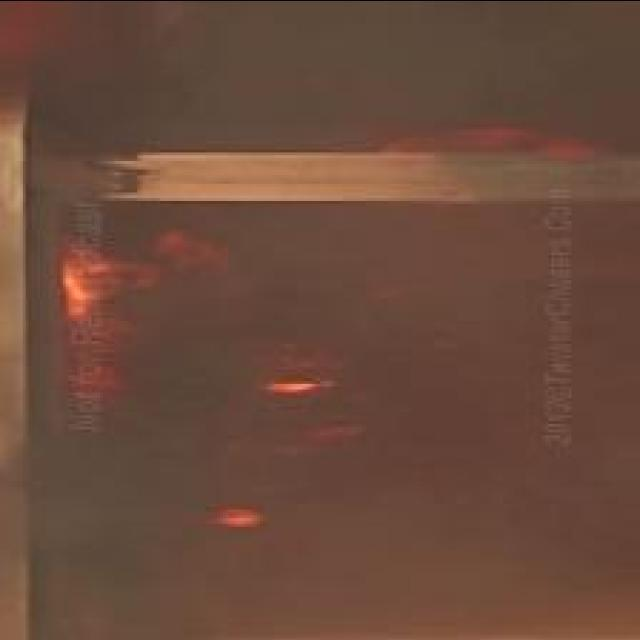Fire: (58, 230, 230, 407)
